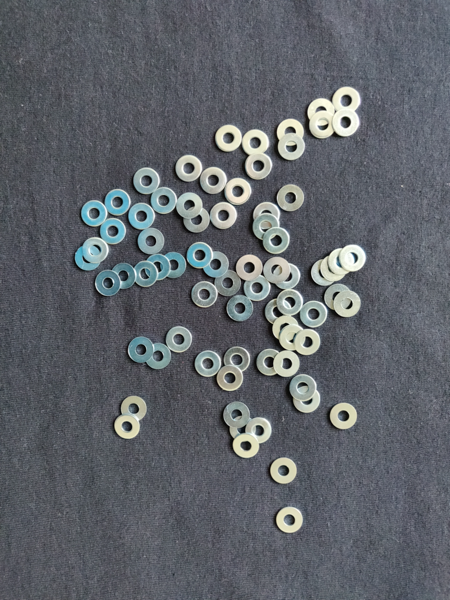circle: (268, 455, 300, 486), (274, 507, 306, 537), (333, 84, 363, 115), (139, 225, 167, 258), (276, 133, 306, 163), (273, 118, 304, 147), (299, 300, 328, 330), (224, 177, 254, 206), (229, 414, 257, 445), (189, 281, 220, 309), (94, 269, 122, 300), (131, 167, 162, 195), (306, 97, 337, 125), (216, 363, 245, 392), (276, 184, 305, 213), (82, 235, 111, 264), (73, 244, 102, 273), (173, 156, 202, 185), (242, 129, 271, 158), (214, 125, 243, 154), (332, 108, 361, 137), (132, 260, 160, 290), (110, 262, 138, 292), (148, 188, 178, 216), (198, 167, 228, 195), (273, 263, 302, 291), (185, 241, 214, 269), (209, 203, 238, 231), (222, 401, 252, 428), (293, 388, 323, 415), (175, 192, 205, 219), (161, 250, 187, 281), (127, 336, 155, 364), (194, 350, 222, 378), (223, 346, 251, 374), (236, 254, 264, 282), (263, 256, 291, 284), (202, 251, 230, 279), (99, 217, 127, 245), (329, 403, 358, 430), (335, 290, 362, 319), (245, 274, 272, 303), (328, 247, 355, 276), (253, 201, 282, 228), (129, 202, 156, 231), (80, 200, 109, 227), (244, 153, 273, 180), (145, 254, 171, 284), (263, 227, 293, 253), (309, 111, 335, 141), (250, 215, 281, 240), (274, 351, 302, 378), (324, 285, 351, 313), (340, 245, 367, 273), (105, 189, 133, 216), (321, 253, 346, 283), (145, 343, 172, 370), (257, 349, 284, 376), (279, 324, 306, 351), (247, 417, 273, 445), (166, 325, 192, 353), (265, 299, 293, 325), (228, 296, 254, 324), (182, 208, 210, 234), (113, 415, 142, 440), (275, 290, 304, 315), (310, 259, 335, 288), (290, 374, 316, 401), (295, 329, 322, 355), (272, 315, 298, 342), (122, 396, 147, 424), (233, 434, 260, 459), (216, 270, 241, 297)
